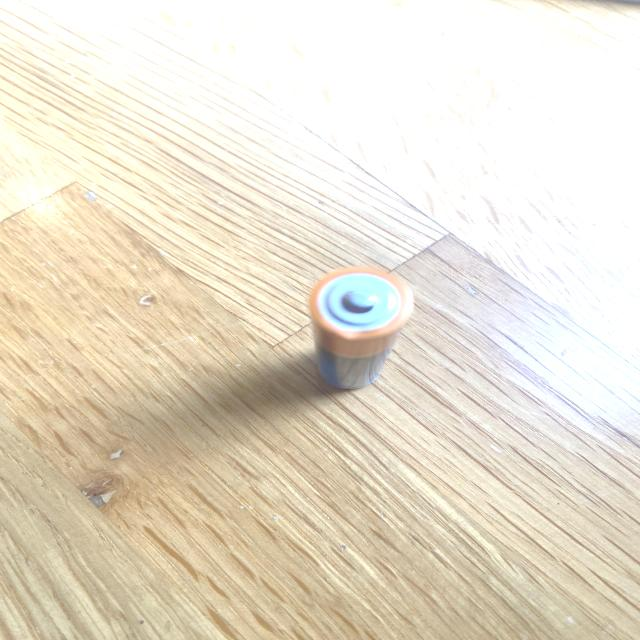AA: (307, 265, 414, 390)
